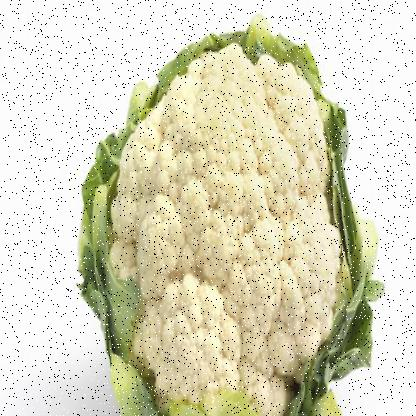cauliflower: (103, 48, 346, 415)
